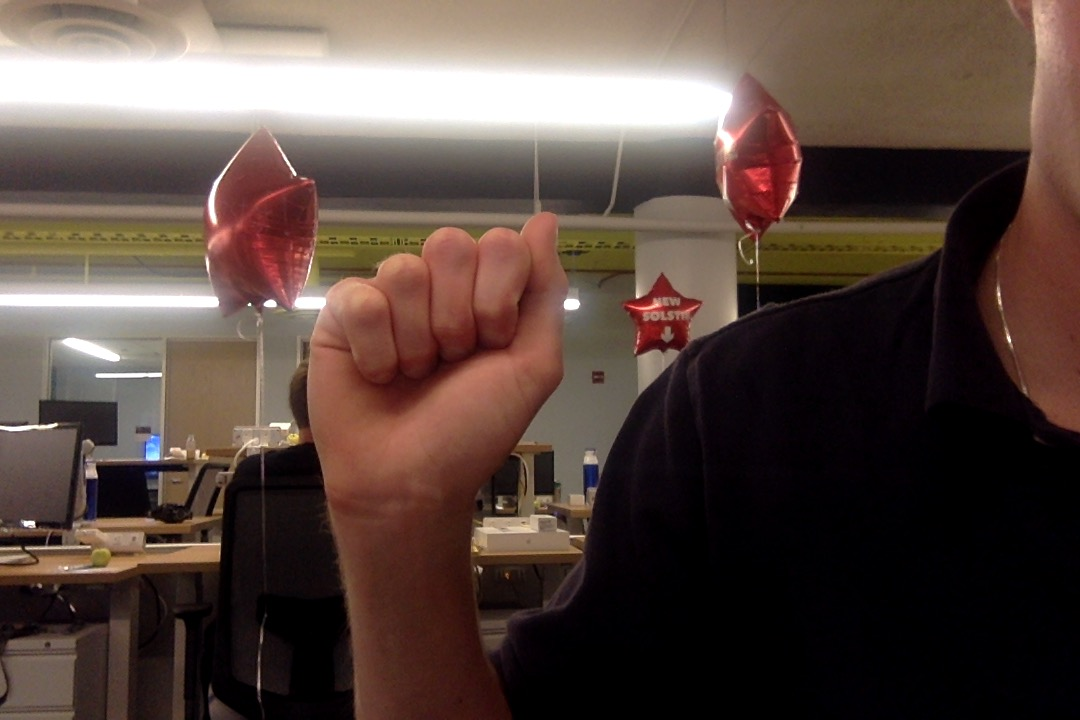a: (303, 203, 580, 498)
